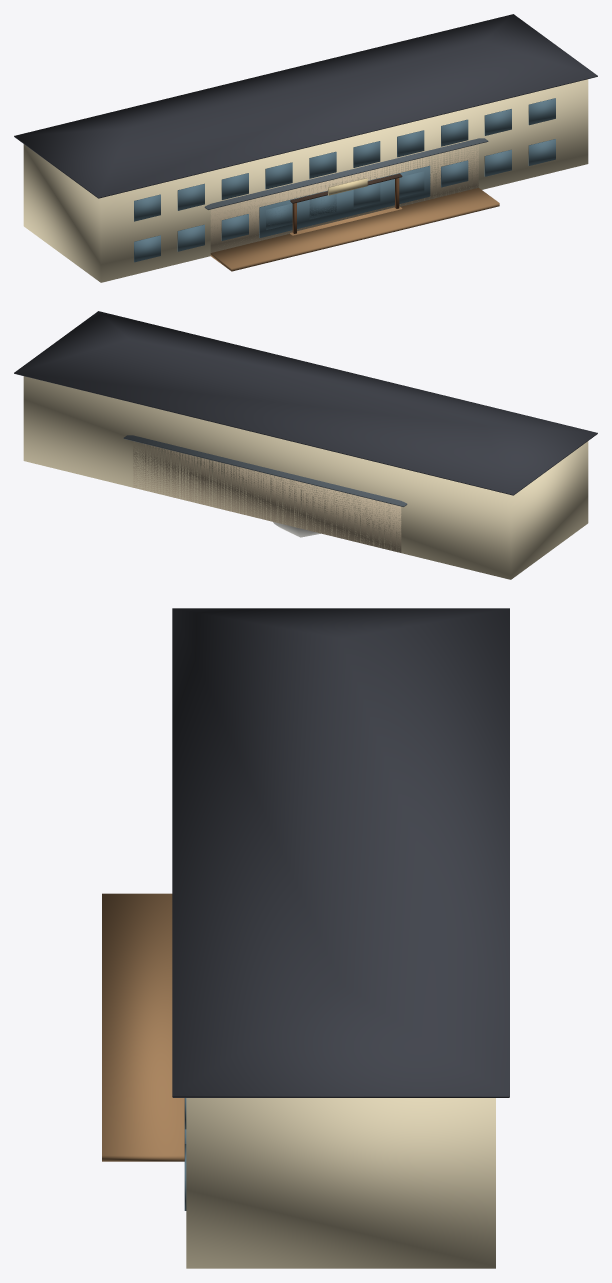
Rendered from camp-kit.glb.
3 views of the same model, one above another, from view 1: azimuth 30°, elevation 25°; view 2: azimuth 150°, elevation 25°; view 3: azimuth 270°, elevation 25° (orthographic). The views are drawn at different scales.
Parts seen in each view (by area): view 1: school-roof, school-wall, school-glass, office-deck, office-wall, office-glass, office-roof, lodge-deck; view 2: school-roof, school-wall, office-wall, office-roof; view 3: school-roof, school-wall, office-deck.
Part boxes in pixels (left/top/right/bottom): school-roof: left=14, top=14, right=597, bottom=198; school-wall: left=23, top=79, right=588, bottom=282; school-glass: left=134, top=98, right=555, bottom=262; office-deck: left=210, top=187, right=499, bottom=271; office-wall: left=210, top=144, right=478, bottom=252; office-glass: left=259, top=165, right=430, bottom=237; office-roof: left=204, top=138, right=488, bottom=209; lodge-deck: left=290, top=206, right=402, bottom=235; school-roof: left=14, top=311, right=597, bottom=495; school-wall: left=23, top=376, right=588, bottom=579; office-wall: left=133, top=441, right=401, bottom=552; office-roof: left=123, top=435, right=407, bottom=506; school-roof: left=172, top=608, right=509, bottom=1097; school-wall: left=186, top=1098, right=495, bottom=1268; office-deck: left=102, top=893, right=184, bottom=1161.
Bounding box in the file's own units: 41 × 11.85 × 14.5.
